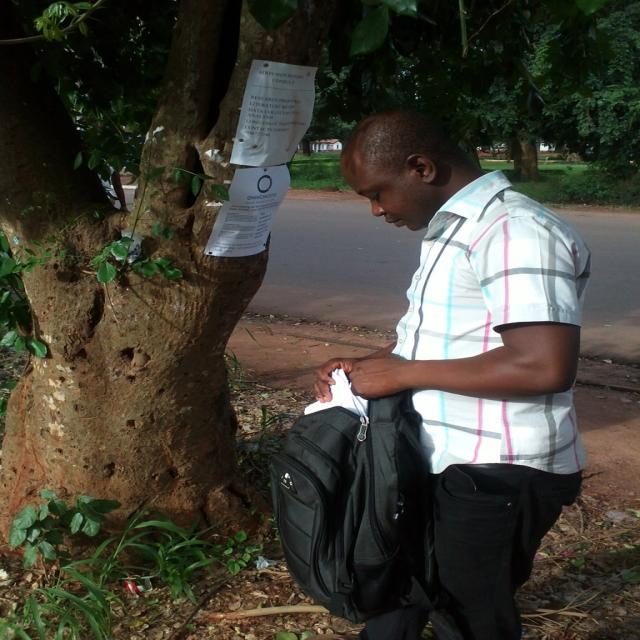backpack: (271, 374, 425, 620)
